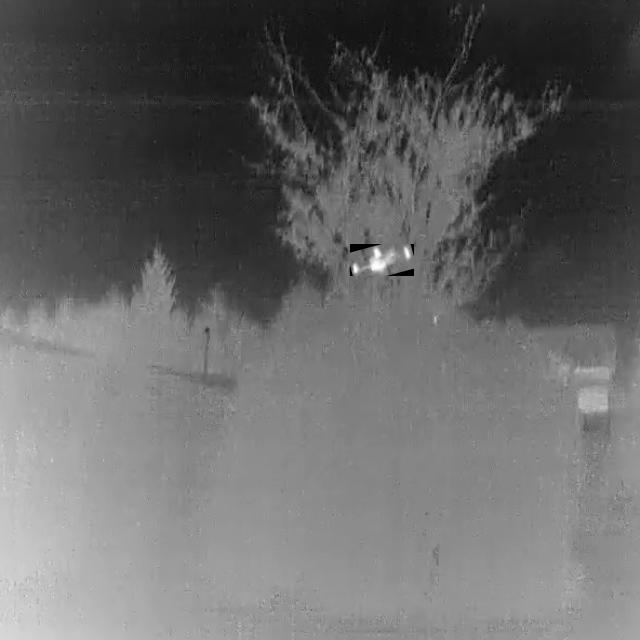drone: (350, 244, 414, 276)
